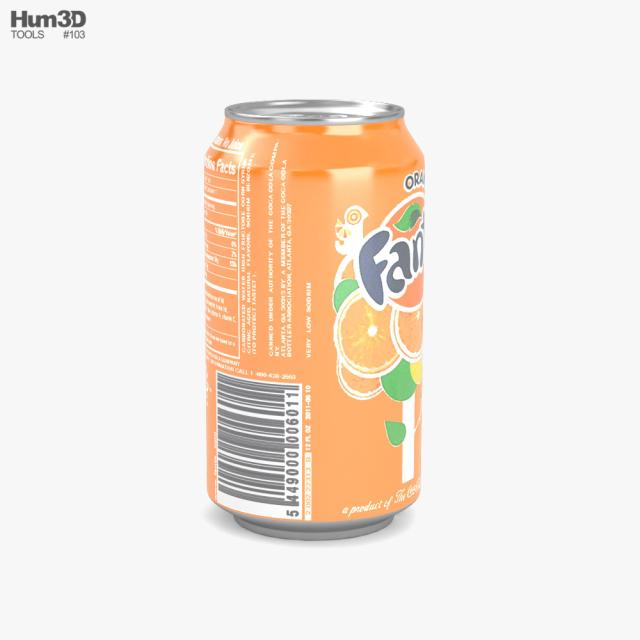fanta: (200, 91, 430, 538)
